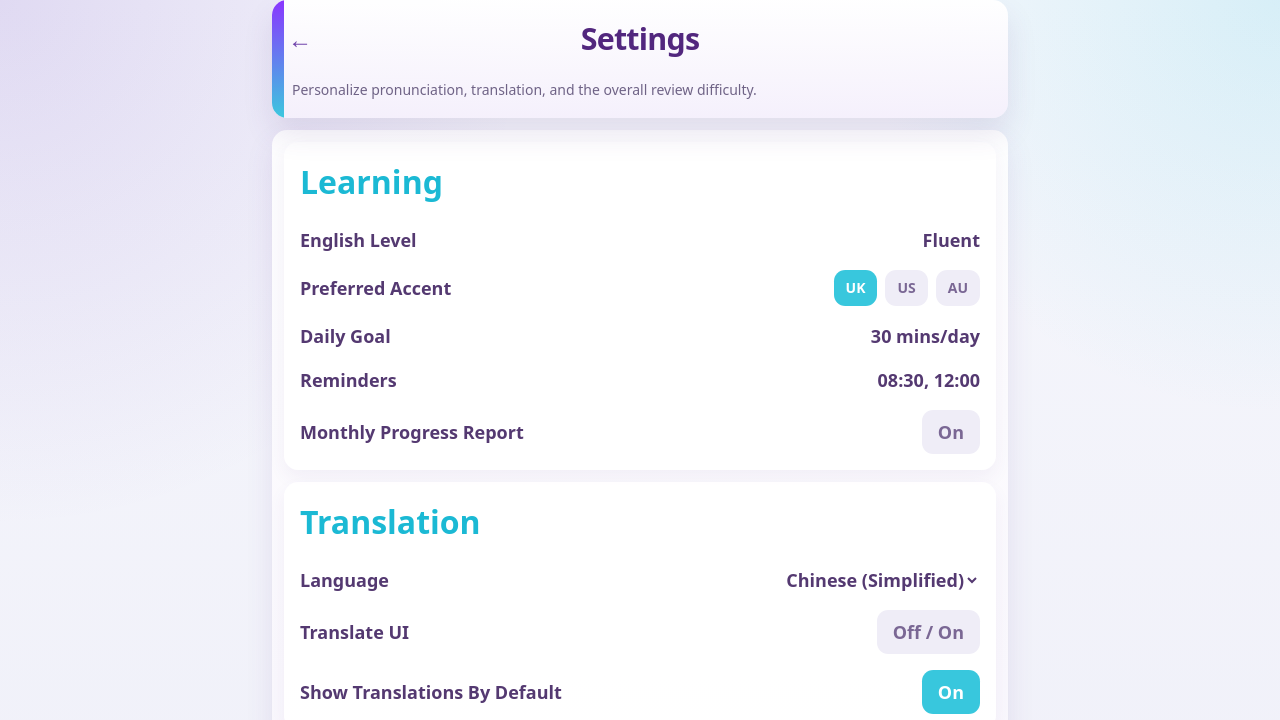
Test: SettingsPage › does not let mount-time timezone sync clobber a newer setting change
Click the button with aria-label "show translations by default" at (951, 692), box [922, 670, 980, 714]
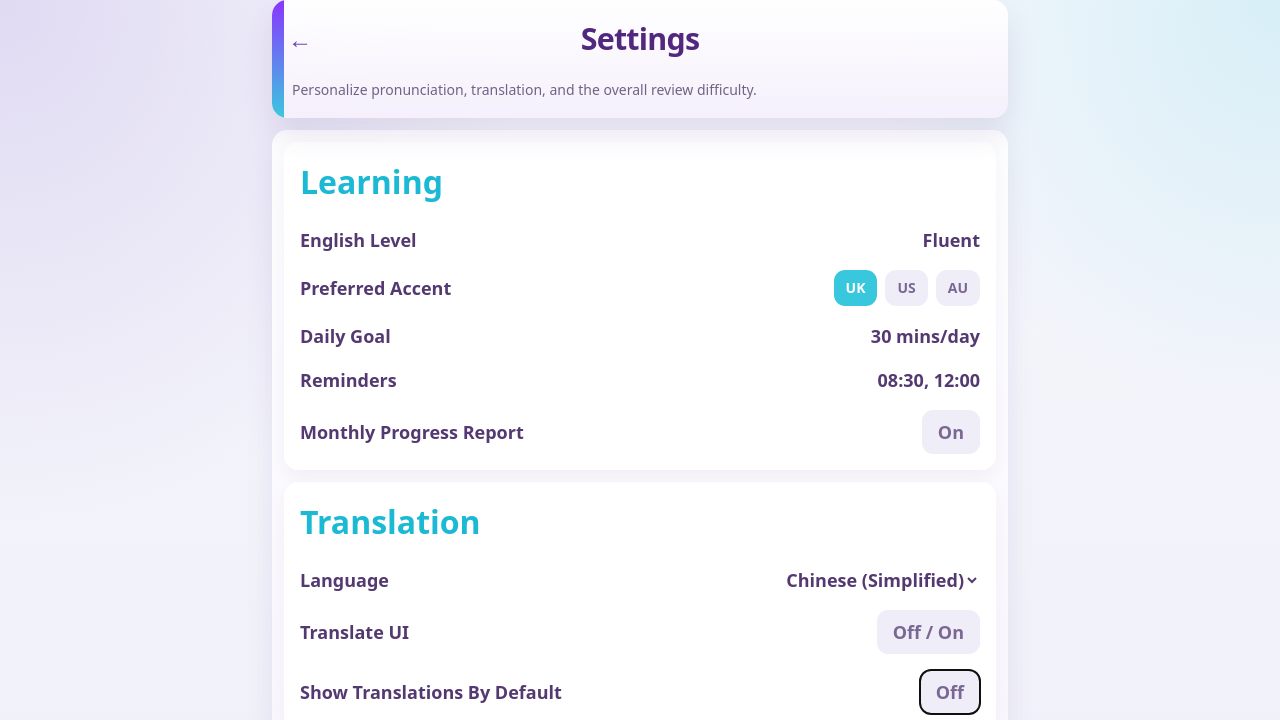
Expected: the button with aria-label "show translations by default" reads "Off", [920, 670, 980, 714]
